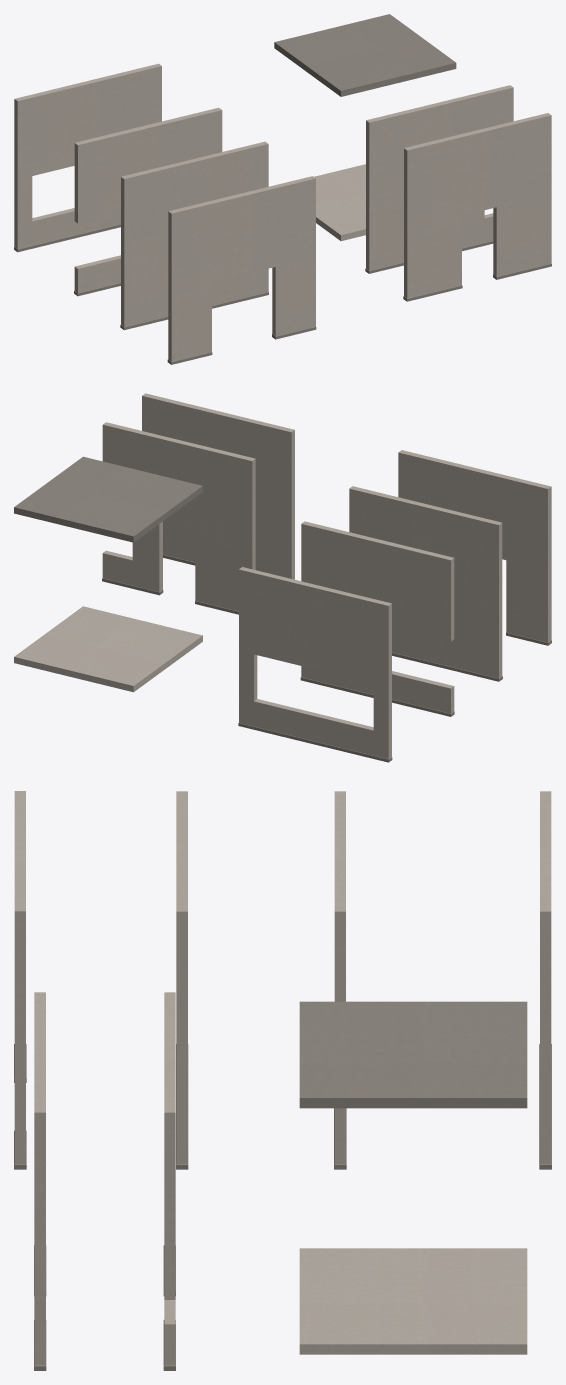
3 views of the same model, one above another, from view 1: azimuth 30°, elevation 25°; view 2: azimuth 150°, elevation 25°; view 3: azimuth 270°, elevation 25° (orthographic). The views are drawn at different scales.
Visible parts, largest first — view 1: door_module_02, single_door_module_03, wall_module_01, wall_module_04, door_module_03, wall_module_03, pCube15.001, pCube15; view 2: wall_module_04, door_module_03, wall_module_01, wall_module_03, single_door_module_03, door_module_02, pCube15.001, pCube15; view 3: pCube15.001, pCube15, wall_module_04, wall_module_01, door_module_03, door_module_02, single_door_module_03, wall_module_03.
Part boxes in pixels (x1,y1,x2,y2): door_module_02: (403,113,551,301); single_door_module_03: (167,176,316,364); wall_module_01: (120,141,268,330); wall_module_04: (14,63,161,252); door_module_03: (365,85,513,273); wall_module_03: (74,107,222,296); pCube15.001: (274,14,456,96); pCube15: (314,164,365,241); wall_module_04: (238,567,392,762); door_module_03: (102,422,255,614); wall_module_01: (349,486,502,681); wall_module_03: (300,521,454,716); single_door_module_03: (398,450,551,645); door_module_02: (142,393,294,579); pCube15.001: (14,456,202,542); pCube15: (14,606,202,692); pCube15.001: (299,1001,527,1108); pCube15: (299,1248,527,1354); wall_module_04: (539,791,551,1169); wall_module_01: (176,791,188,1169); door_module_03: (163,992,175,1370); door_module_02: (34,992,46,1370); single_door_module_03: (14,791,26,1169); wall_module_03: (334,791,346,1169).
Bounding box in the file's own units: 13.38 × 5 × 9.45.
